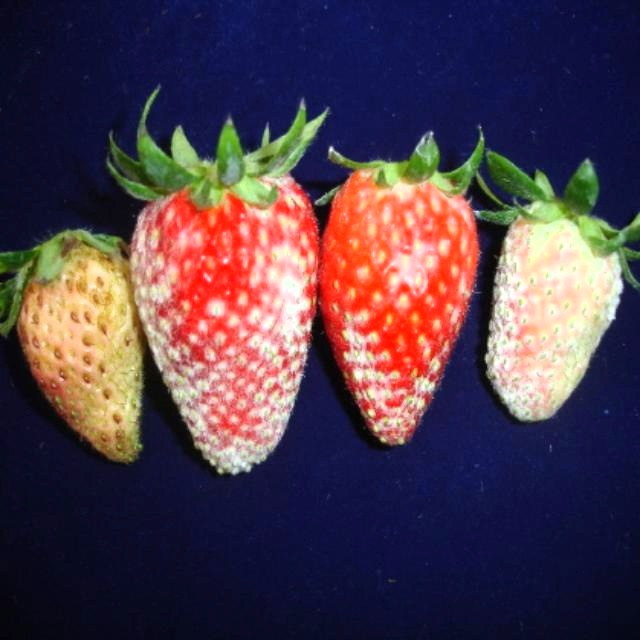Powdery Mildew Fruit: (128, 157, 320, 477), (316, 159, 480, 446), (484, 198, 625, 423)
